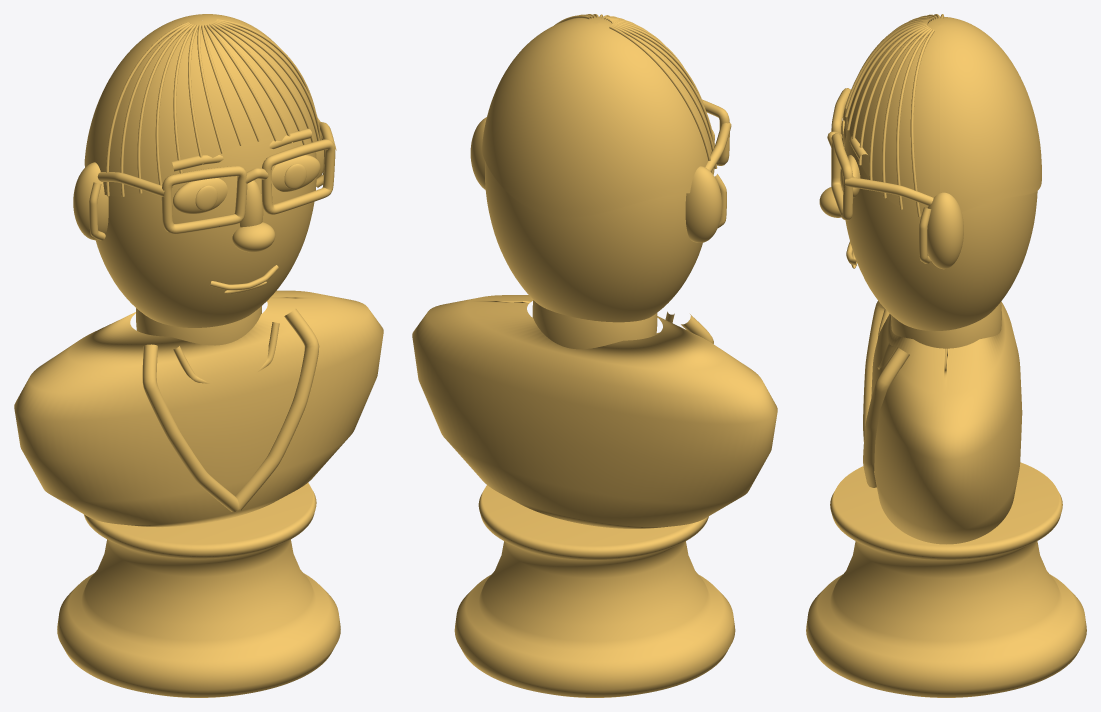
Rendered from portrait-gold.glb.
3 views of the same model, side by side, from view 1: azimuth 30°, elevation 25°; view 2: azimuth 150°, elevation 25°; view 3: azimuth 270°, elevation 25° (orthographic).
Visible parts, largest first — view 1: Sweater_shoulders, Chess_pedestal, Swept_hair_cap, Head, V_neck_trim (×2), Thick_rectangular_glasses (×2), Hair_sweep_detail (×4), Neck, Eye (×2), Left_ear, Nose_tip, Nose_bridge (+2 smaller); view 2: Sweater_shoulders, Chess_pedestal, Swept_hair_cap, Head, Neck, Left_ear, Hair_sweep_detail (×2), Right_ear; view 3: Chess_pedestal, Sweater_shoulders, Swept_hair_cap, Head, Hair_sweep_detail (×7), V_neck_trim (×2), Right_ear, Neck, Thick_rectangular_glasses (×2), Glasses_temple, Ear_rim.
Part boxes in pixels (x1=…): Sweater_shoulders: x1=14, y1=290, x2=383, y2=527; Chess_pedestal: x1=57, y1=483, x2=340, y2=697; Swept_hair_cap: x1=84, y1=14, x2=317, y2=196; Head: x1=95, y1=140, x2=316, y2=327; V_neck_trim (×2): x1=142, y1=308, x2=319, y2=512; Thick_rectangular_glasses (×2): x1=161, y1=139, x2=335, y2=234; Hair_sweep_detail (×4): x1=106, y1=22, x2=193, y2=196; Neck: x1=136, y1=306, x2=261, y2=345; Eye (×2): x1=173, y1=155, x2=320, y2=213; Left_ear: x1=73, y1=162, x2=108, y2=240; Nose_tip: x1=232, y1=222, x2=275, y2=252; Nose_bridge: x1=240, y1=180, x2=263, y2=227; Sweater_shoulders: x1=412, y1=295, x2=777, y2=528; Chess_pedestal: x1=454, y1=485, x2=735, y2=697; Swept_hair_cap: x1=482, y1=16, x2=714, y2=217; Head: x1=485, y1=161, x2=702, y2=322; Neck: x1=532, y1=300, x2=657, y2=349; Left_ear: x1=685, y1=166, x2=721, y2=242; Hair_sweep_detail (×2): x1=609, y1=25, x2=717, y2=174; Right_ear: x1=470, y1=117, x2=486, y2=189; Chess_pedestal: x1=806, y1=462, x2=1086, y2=697; Sweater_shoulders: x1=871, y1=301, x2=1022, y2=544; Swept_hair_cap: x1=847, y1=16, x2=1041, y2=215; Head: x1=843, y1=130, x2=1037, y2=331; Hair_sweep_detail (×7): x1=846, y1=23, x2=934, y2=216; V_neck_trim (×2): x1=863, y1=301, x2=909, y2=487; Right_ear: x1=927, y1=192, x2=963, y2=269; Neck: x1=891, y1=302, x2=1001, y2=348; Thick_rectangular_glasses (×2): x1=831, y1=88, x2=853, y2=220; Glasses_temple: x1=845, y1=177, x2=933, y2=206; Ear_rim: x1=919, y1=207, x2=931, y2=263.
Bounding box in the file's own units: 2.24 × 3.72 × 1.52.
